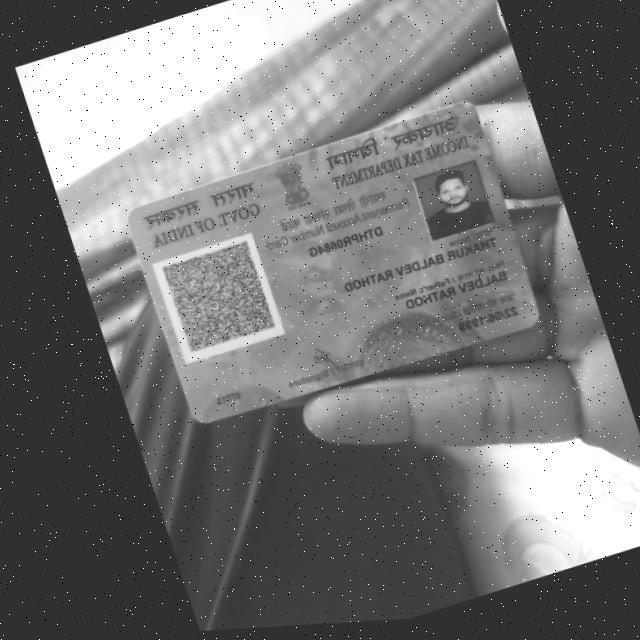card: (128, 103, 537, 422)
